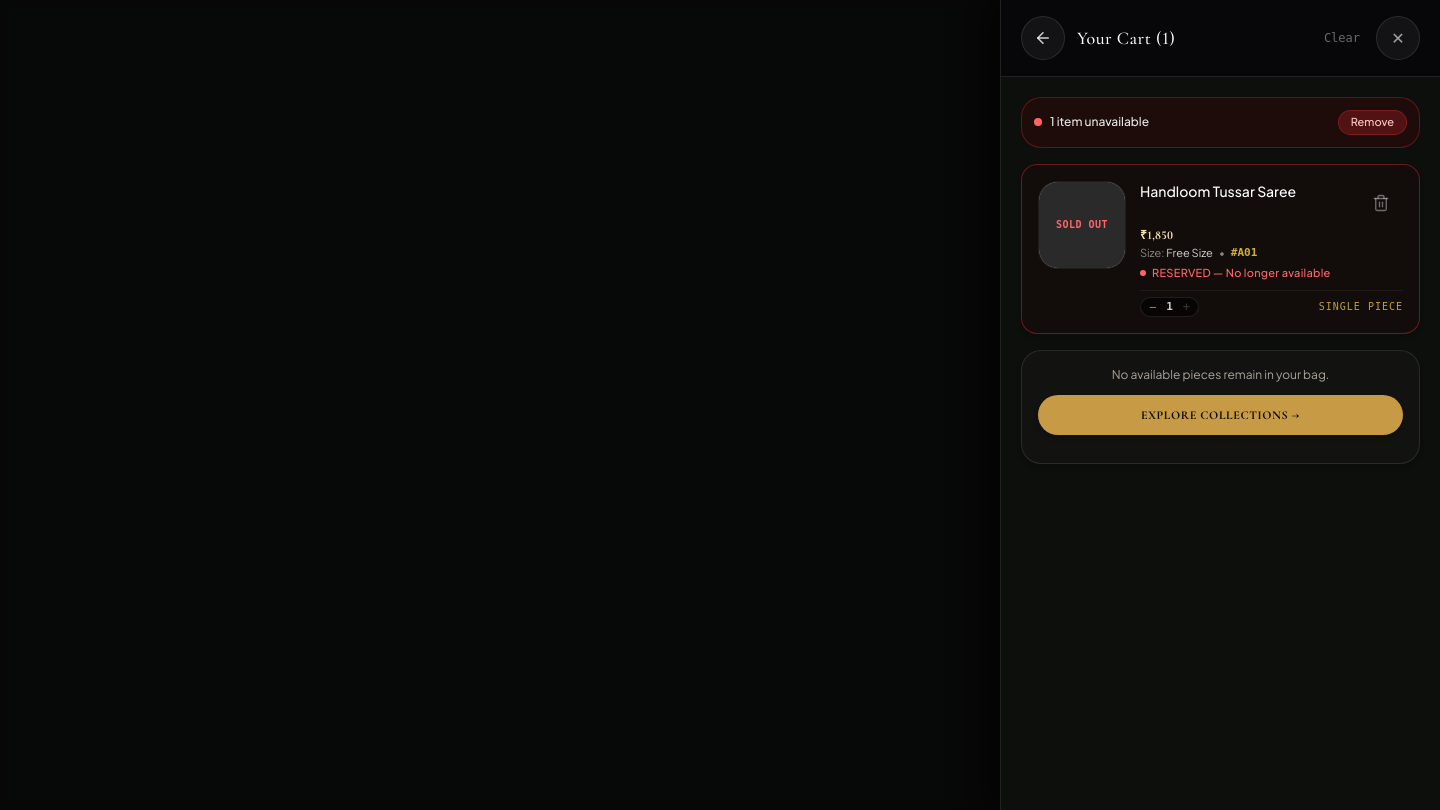
TASK-2.2: StickyCartBar & CartDrawer UI Components › disables checkout button and shows warning banner when an item in cart is unavailable
This screenshot has width=1440, height=810.
expect the element with test id "cart-unavailable-banner" is shown: met, box [1021,97,1420,148]
expect the element with test id "cart-item-warning-prod-01" reads "RESERVED — No longer available": met, box [1152,266,1331,279]
Note: 1-click remove unavailable items
Click the button with test id "cart-remove-unavailable-btn" at (1372, 122), box [1338,110,1407,135]
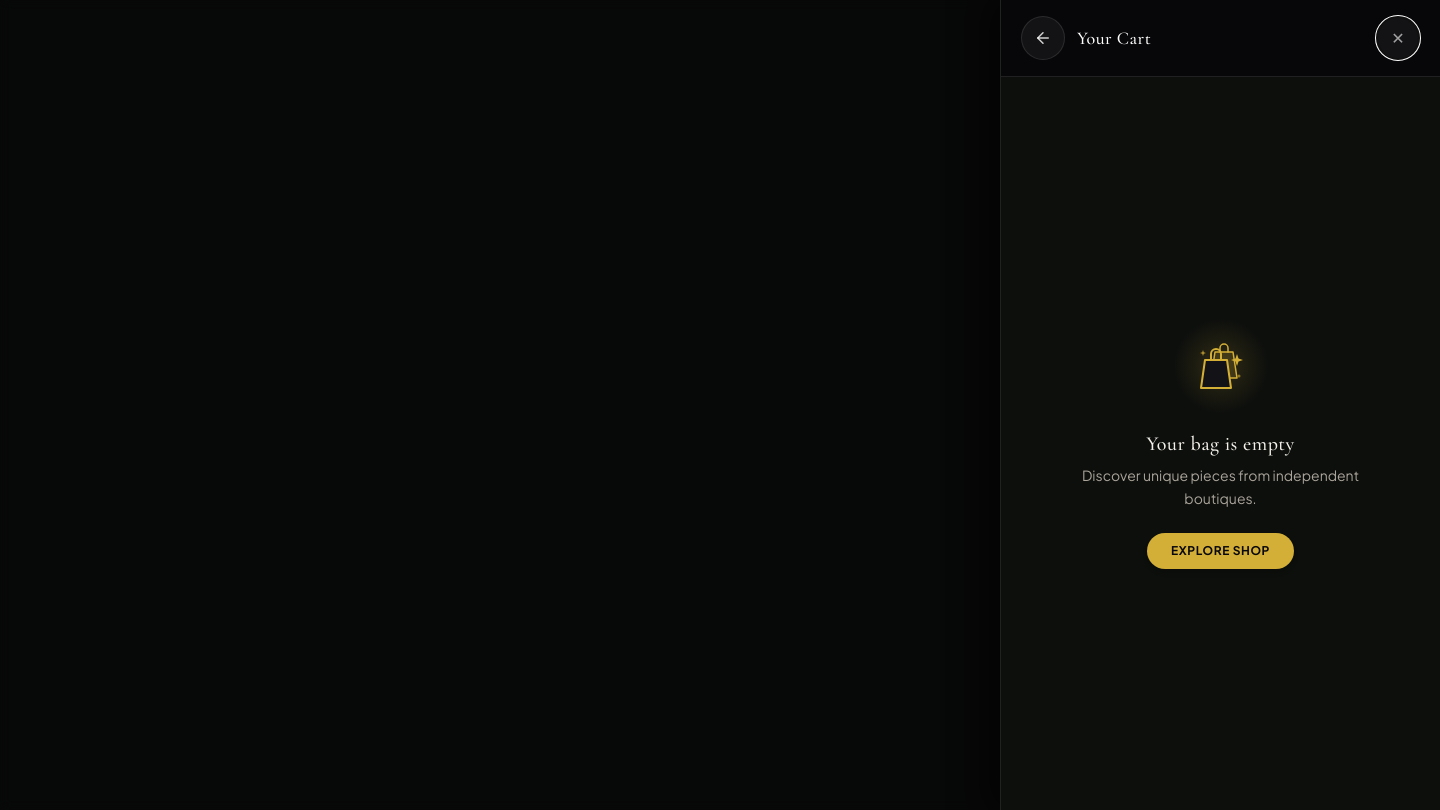
expect the element with test id "cart-empty-state" is shown: met, box [1082,318,1359,569]
